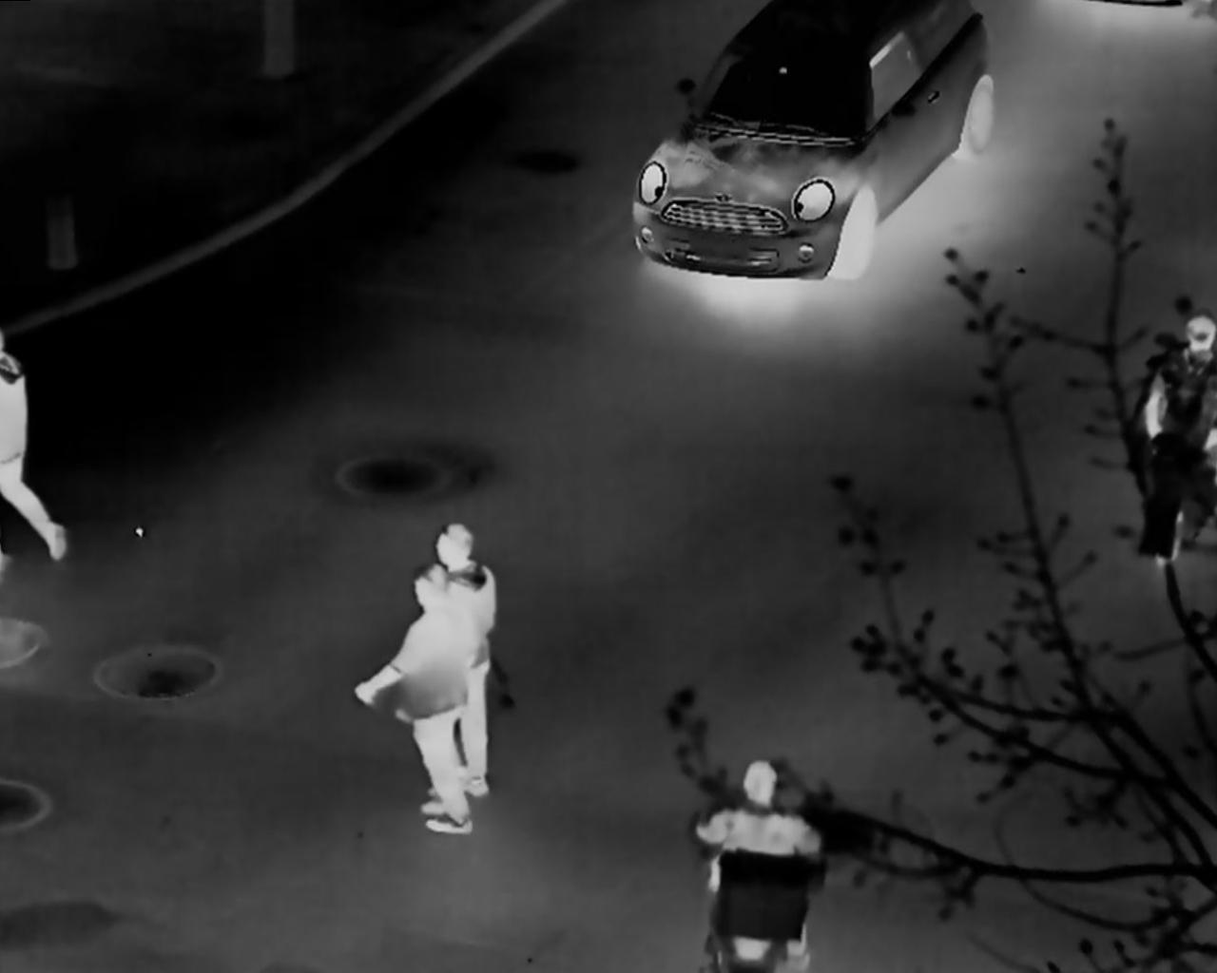person: (373, 565, 473, 848), (706, 766, 824, 931), (431, 517, 491, 793), (1144, 324, 1217, 544)
